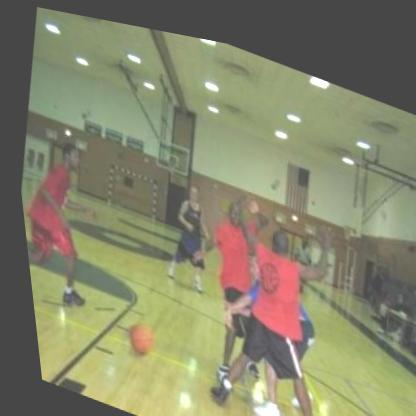basketball: (114, 309, 153, 358)
